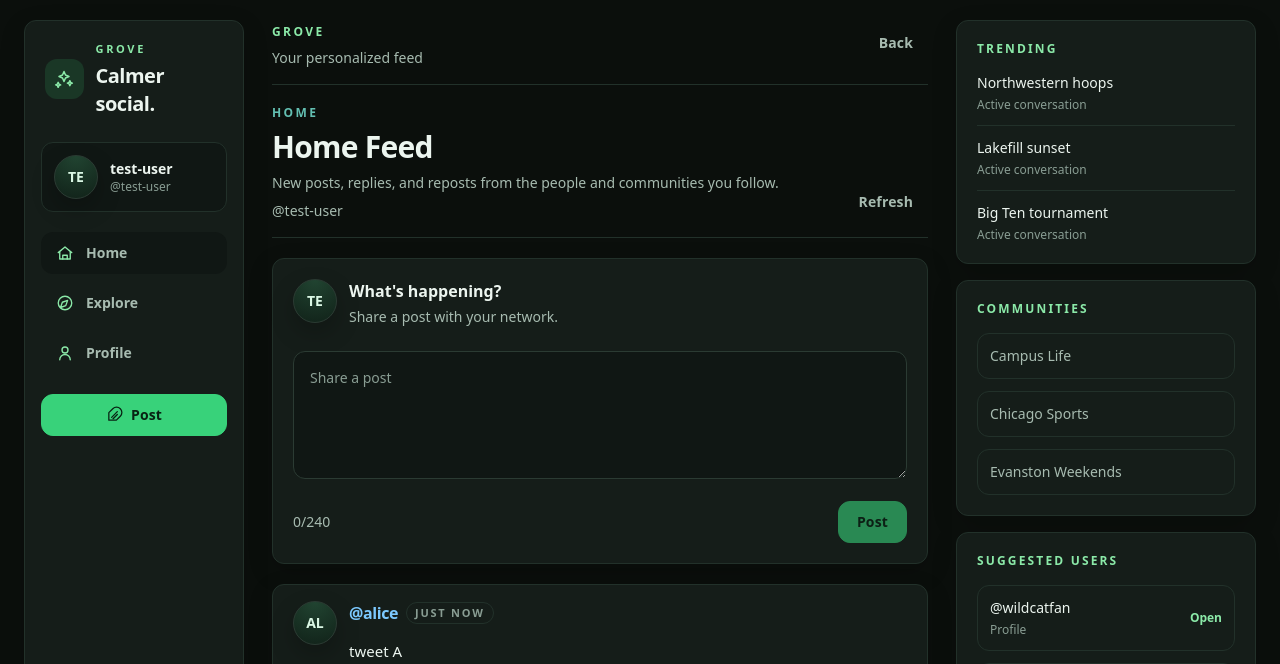
Test: HomeFeedPage › refresh re-fetches first page and replaces tweet list
Expected: the text "tweet A" is shown, [349,641,402,661]
Click the button "Refresh": [886, 202] box [844,183,928,221]
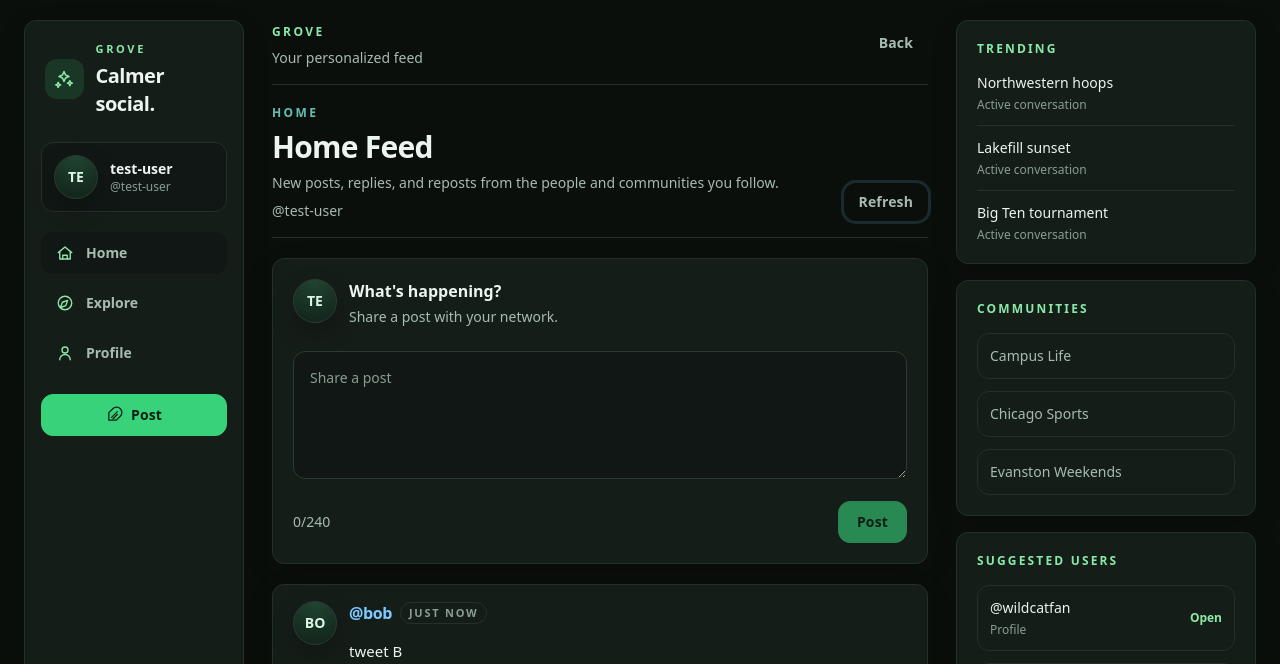
Expected: the text "tweet B" is shown, [349,641,402,661]
Expected: the text "tweet A" is gone
